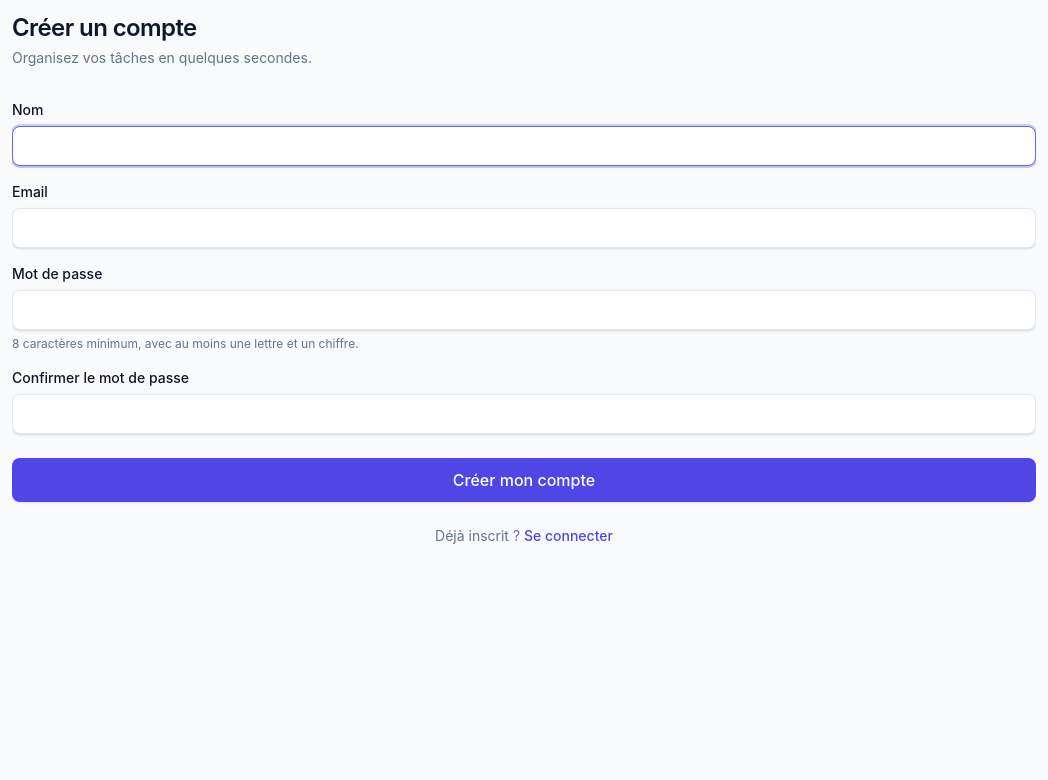
Scenario: RegisterPage › vérifie la robustesse et la confirmation du mot de passe
The width and height of the screenshot is (1048, 780).
Type "Alice" into the field labelled "Nom" at (524, 146), box [12,126,1036,166]
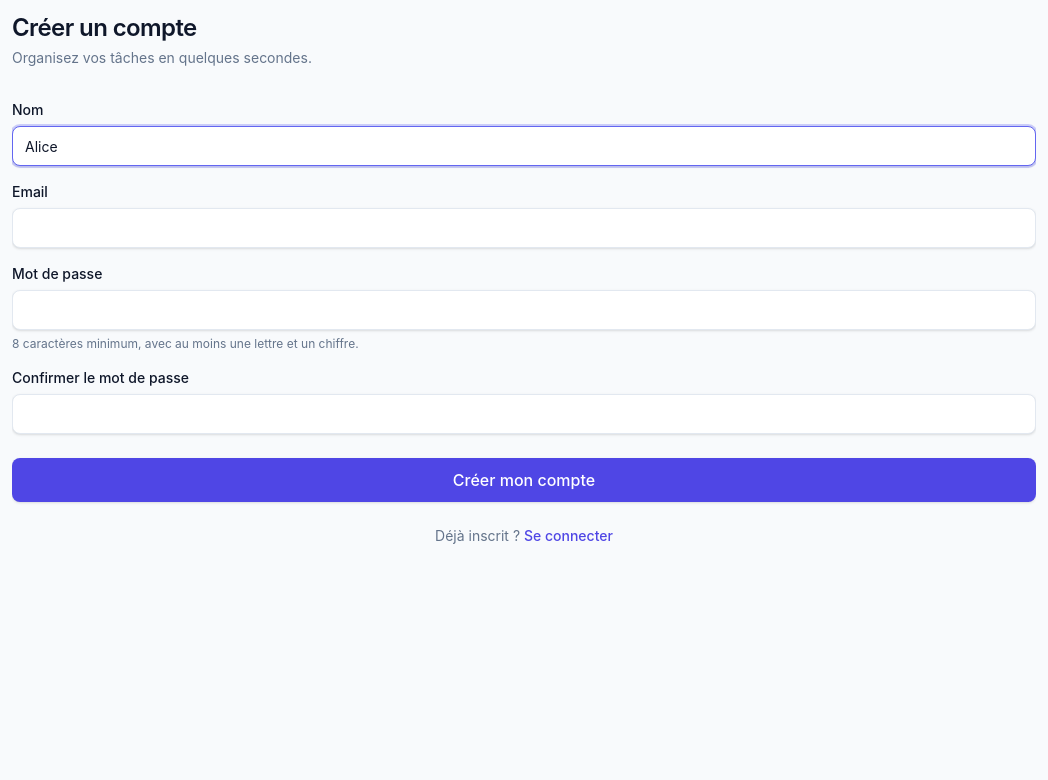
Type "alice@test.dev" into the field labelled "Email" at (524, 228), box [12,208,1036,248]
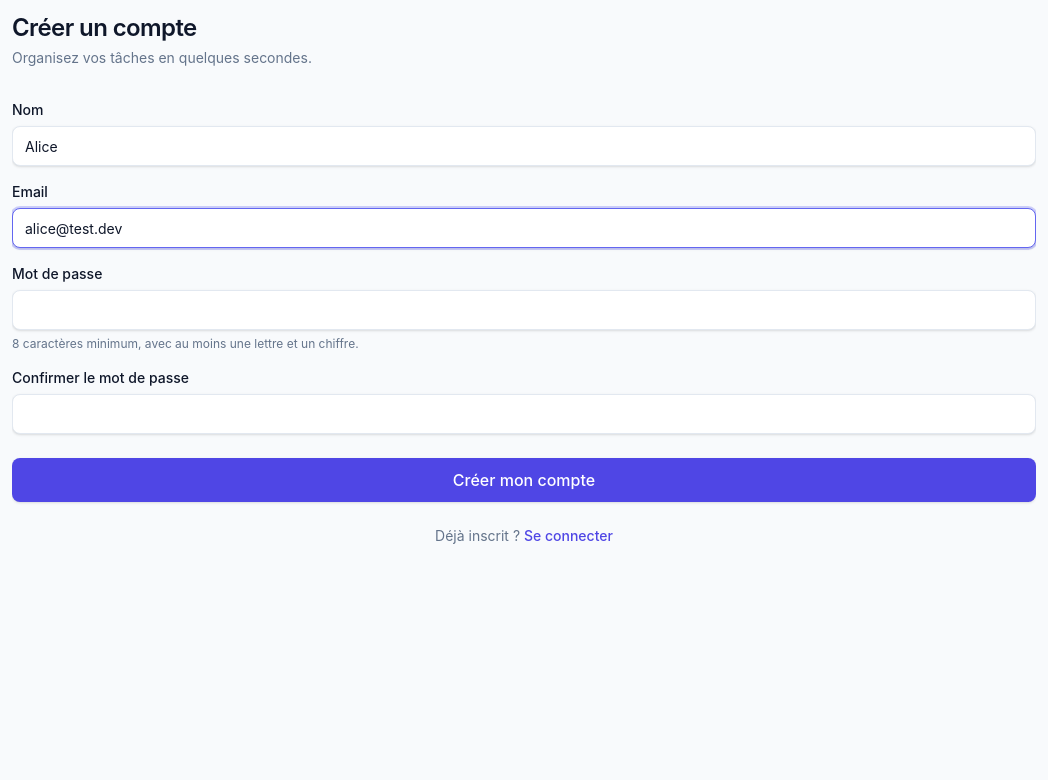
Type "motdepasse" into the password field labelled "Mot de passe" at (524, 310), box [12,290,1036,330]
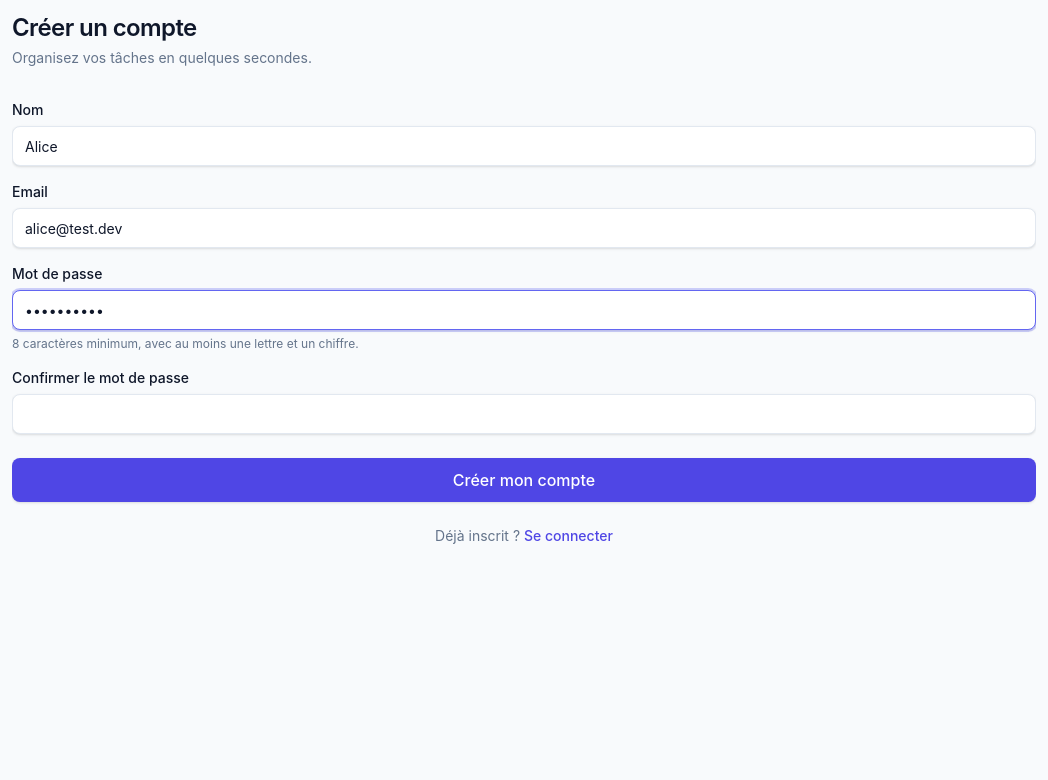
Type "autre" into the password field labelled "Confirmer le mot de passe" at (524, 414), box [12,394,1036,434]
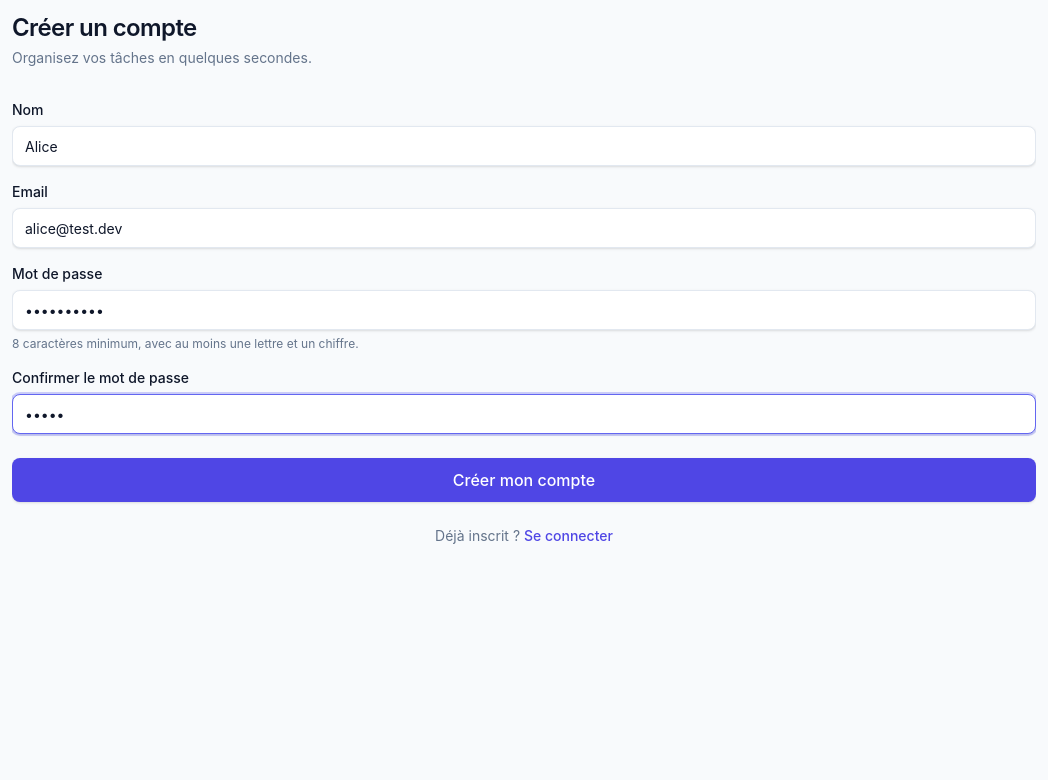
Click the button "Créer mon compte" at (524, 480), box [12,458,1036,502]
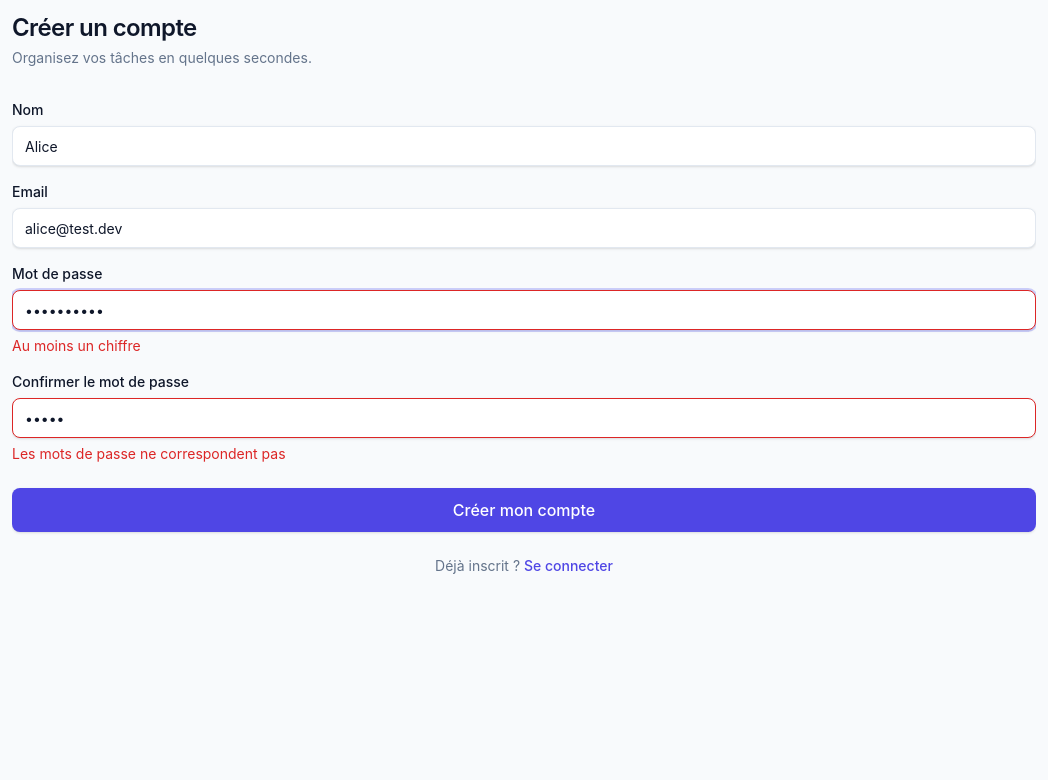
Expected: the text "Au moins un chiffre" is shown, [12,337,141,354]
Expected: the text "Les mots de passe ne correspondent pas" is shown, [12,445,286,462]
